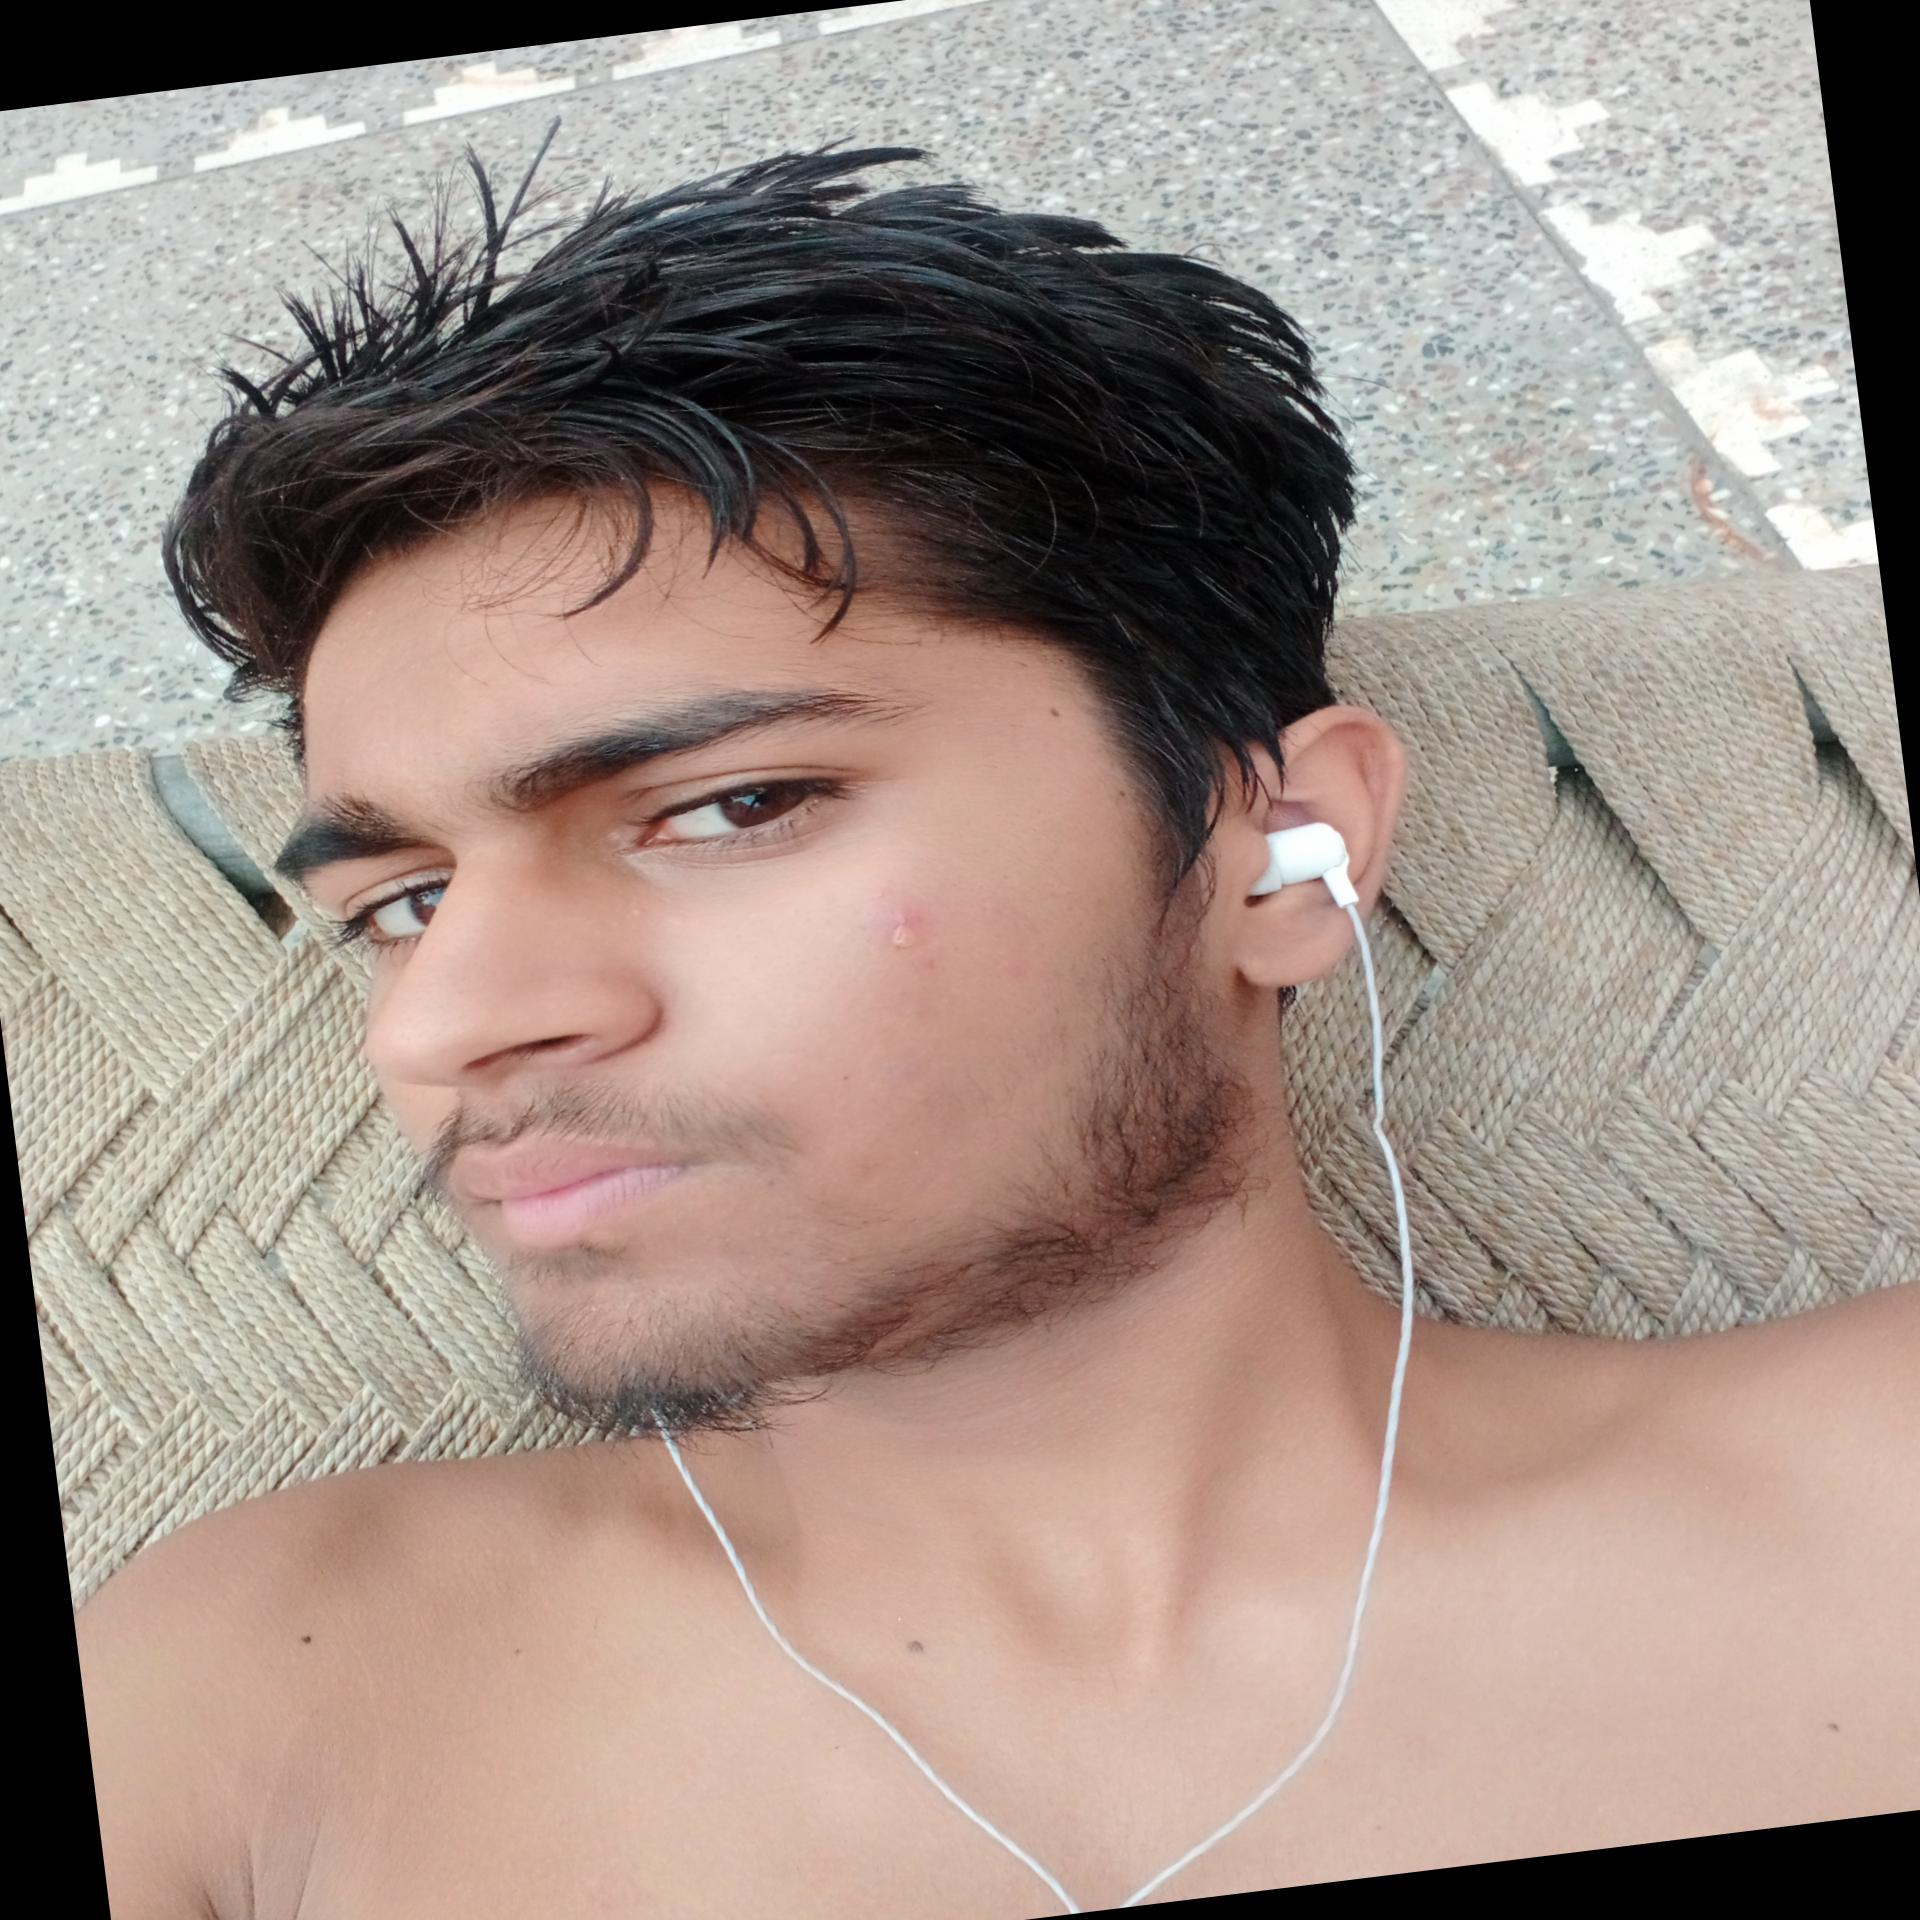Acne: (879, 904, 928, 955), (990, 955, 1032, 985), (914, 951, 941, 974)
Wrinkles: (343, 614, 573, 693)
